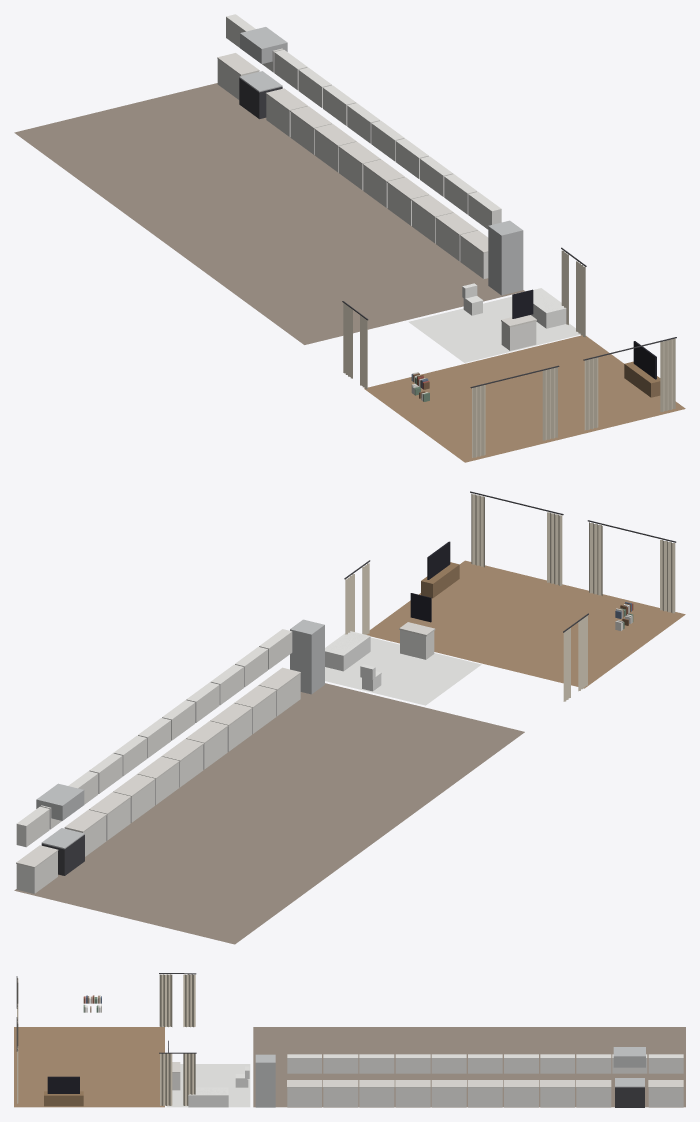
The model's file is fine-s1.glb.
3 renders of one model, top to bottom at view 1: azimuth 30°, elevation 25°; view 2: azimuth 150°, elevation 25°; view 3: azimuth 270°, elevation 25°, orthographic. The views are drawn at different scales.
Visible parts, largest first — view 1: soft-s1, range.000, fridge.000, vanity.000, tv-console.001, counter-run.009, counter-run.001, counter-run.002, counter-run.003, counter-run.006, counter-run.004, counter-run.005 (+13 smaller); view 2: soft-s1, range.000, fridge.000, vanity.000, counter-run.000, tv-console.001, bathtub.000, counter-run.004, counter-run.005, counter-run.008, counter-run.009, counter-run.006 (+13 smaller); view 3: soft-s1, range.000, tv-console.001, fridge.000, counter-run.000, counter-run.001, counter-run.005, counter-run.006, counter-run.007, counter-run.008, counter-run.003, counter-run.002 (+16 smaller).
Part boxes in pixels (bbox=[...]): soft-s1: bbox=[14, 83, 685, 462]; range.000: bbox=[239, 27, 287, 119]; fridge.000: bbox=[488, 220, 523, 295]; vanity.000: bbox=[501, 289, 536, 350]; tv-console.001: bbox=[624, 341, 660, 397]; counter-run.009: bbox=[460, 230, 488, 278]; counter-run.001: bbox=[265, 88, 307, 136]; counter-run.002: bbox=[290, 106, 332, 154]; counter-run.003: bbox=[314, 124, 356, 172]; counter-run.006: bbox=[387, 177, 429, 225]; counter-run.004: bbox=[338, 141, 380, 190]; counter-run.005: bbox=[363, 159, 404, 207]; soft-s1: bbox=[14, 491, 685, 944]; range.000: bbox=[36, 783, 84, 875]; fridge.000: bbox=[290, 619, 324, 694]; vanity.000: bbox=[399, 593, 435, 659]; counter-run.000: bbox=[16, 845, 58, 893]; tv-console.001: bbox=[421, 541, 459, 598]; bathtub.000: bbox=[325, 631, 370, 671]; counter-run.004: bbox=[137, 756, 179, 805]; counter-run.005: bbox=[161, 738, 203, 787]; counter-run.008: bbox=[234, 685, 276, 734]; counter-run.009: bbox=[258, 667, 300, 716]; counter-run.006: bbox=[186, 721, 228, 769]; soft-s1: bbox=[14, 973, 685, 1107]; range.000: bbox=[613, 1047, 645, 1107]; tv-console.001: bbox=[44, 1076, 83, 1106]; fridge.000: bbox=[255, 1054, 275, 1107]; counter-run.000: bbox=[648, 1080, 683, 1107]; counter-run.001: bbox=[576, 1080, 611, 1107]; counter-run.005: bbox=[431, 1080, 466, 1107]; counter-run.006: bbox=[395, 1080, 430, 1107]; counter-run.007: bbox=[359, 1080, 394, 1107]; counter-run.008: bbox=[323, 1080, 358, 1107]; counter-run.003: bbox=[503, 1080, 539, 1107]; counter-run.002: bbox=[540, 1080, 575, 1107].
Bounding box in the file's own units: 7.79 × 2.41 × 26.96.
